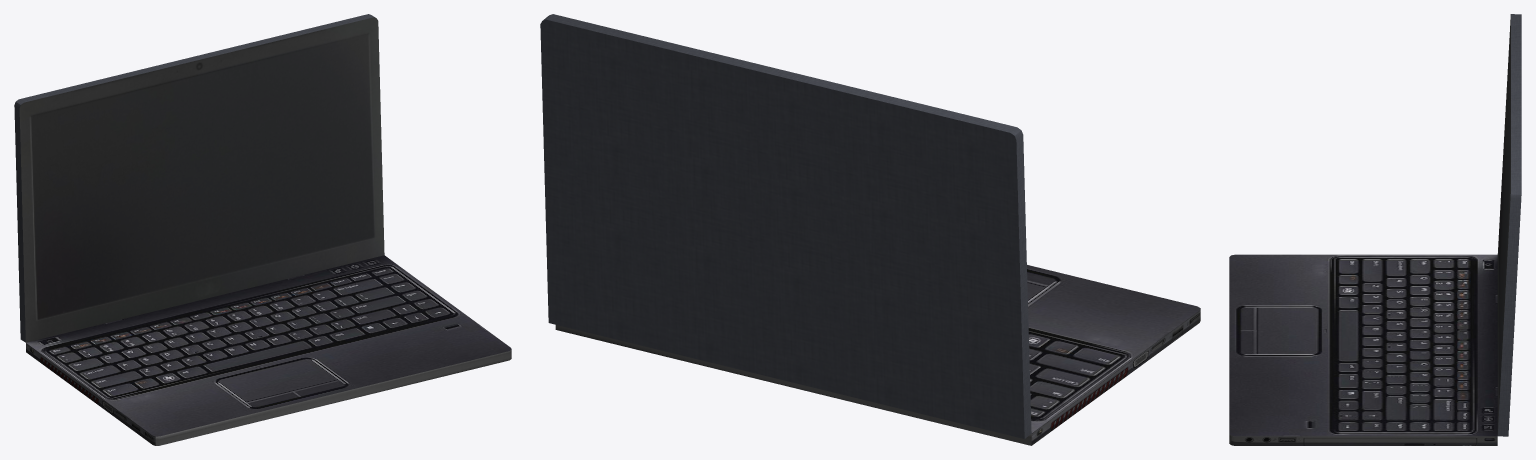
File: laptop2.FBX
The picture shows the model from 3 angles, left to right: view 1: azimuth 30°, elevation 25°; view 2: azimuth 150°, elevation 25°; view 3: azimuth 270°, elevation 25°; orthographic projection. The views are drawn at different scales.
Parts seen in each view (by area): view 1: laptop2; view 2: laptop2; view 3: laptop2.
Boxes of the visible parts, x1,y1,x2,y2 form: laptop2: (14,14,511,445); laptop2: (540,14,1200,445); laptop2: (1229,14,1521,445).
Size of the model in its own units: 4 by 2.6 by 2.72.
